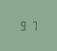nine: (19, 20, 27, 31)
seven: (28, 20, 36, 31)
